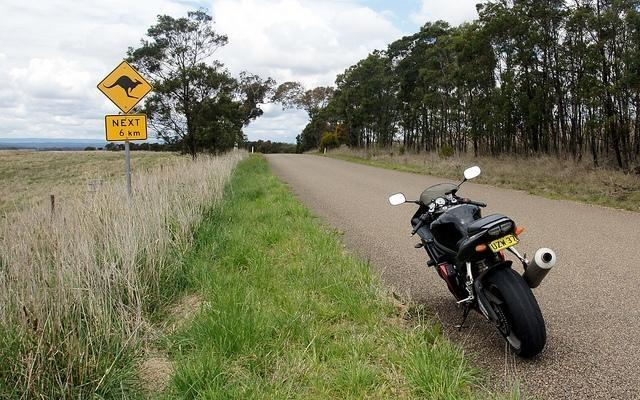motorcycle: (388, 164, 558, 362)
